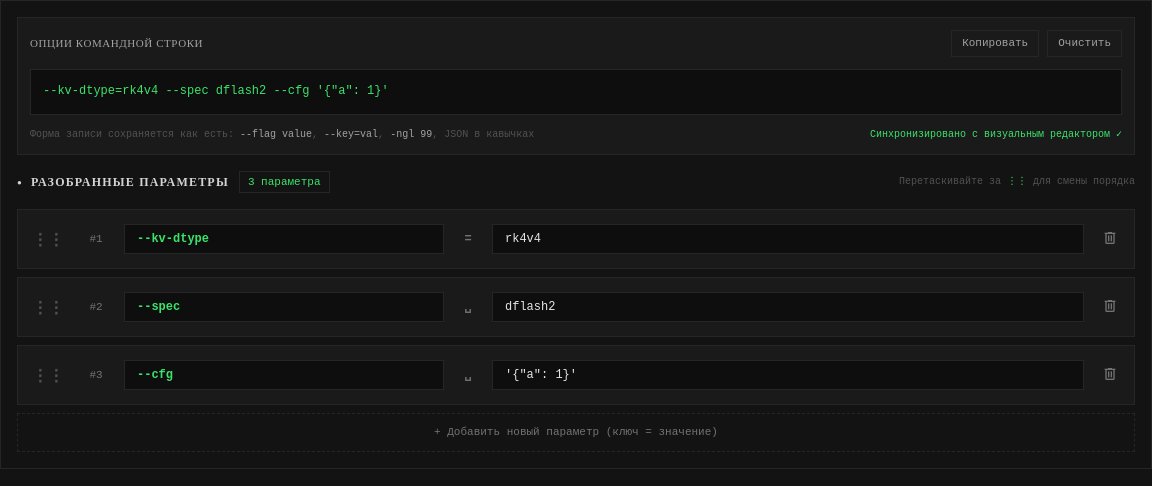
Test: ArgvEditor › правка значения сохраняет запись соседей
This screenshot has width=1152, height=486.
Replace the text in the field named "Значение #2" with "eagle" at (788, 307), box [492, 292, 1084, 322]
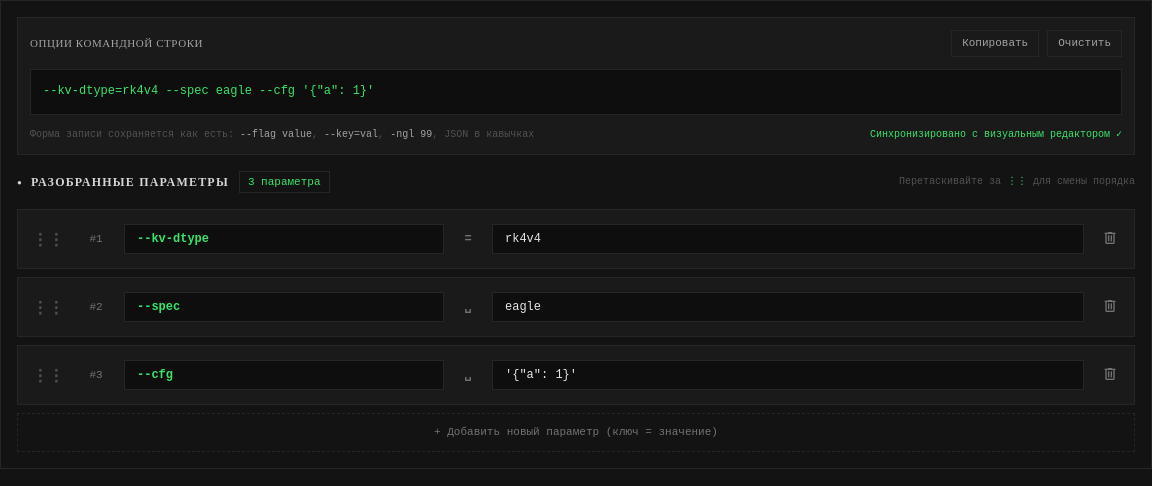
Check: the text box with test id "argv-editor-raw" holds "--kv-dtype=rk4v4 --spec eagle --cfg '{\"a\": 1}'", box [30, 68, 1122, 114]
